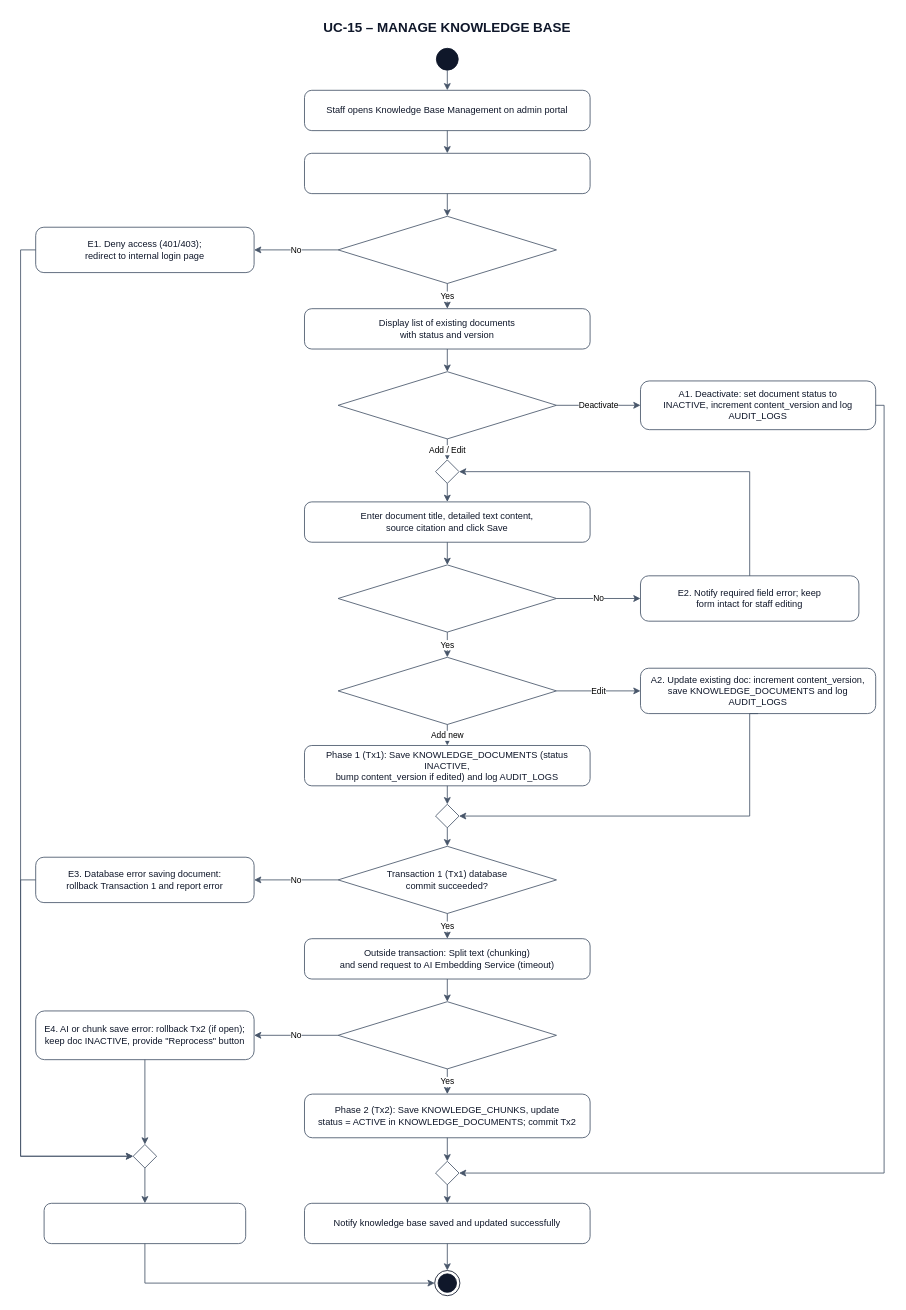
The diagram is 906 pixels wide and 1310 high, and some of its shapes have lost their labels. Each missing label, with the centre of its shape:
"Action selected by staff?" belongs at (446,405).
"Add new document or edit existing document?" belongs at (446,690).
"Document indexing incomplete" belongs at (144,1223).
"Embedding succeeded and content_version == source_version?" belongs at (446,1035).
"Title and content data valid (non-empty)?" belongs at (446,598).
"Valid internal session and STAFF/ADMIN permission?" belongs at (446,249).
"Validate internal login session and STAFF or ADMIN role" belongs at (447,173).
